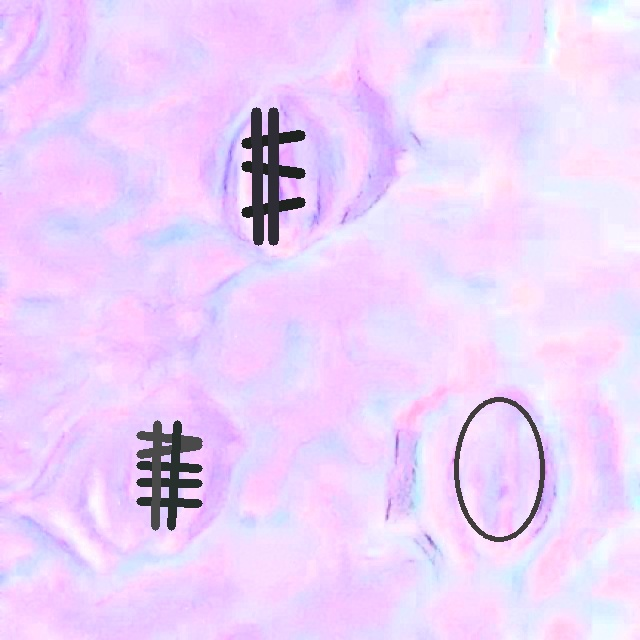close: (453, 396, 546, 542), (136, 420, 202, 529)
open: (242, 108, 305, 245)
